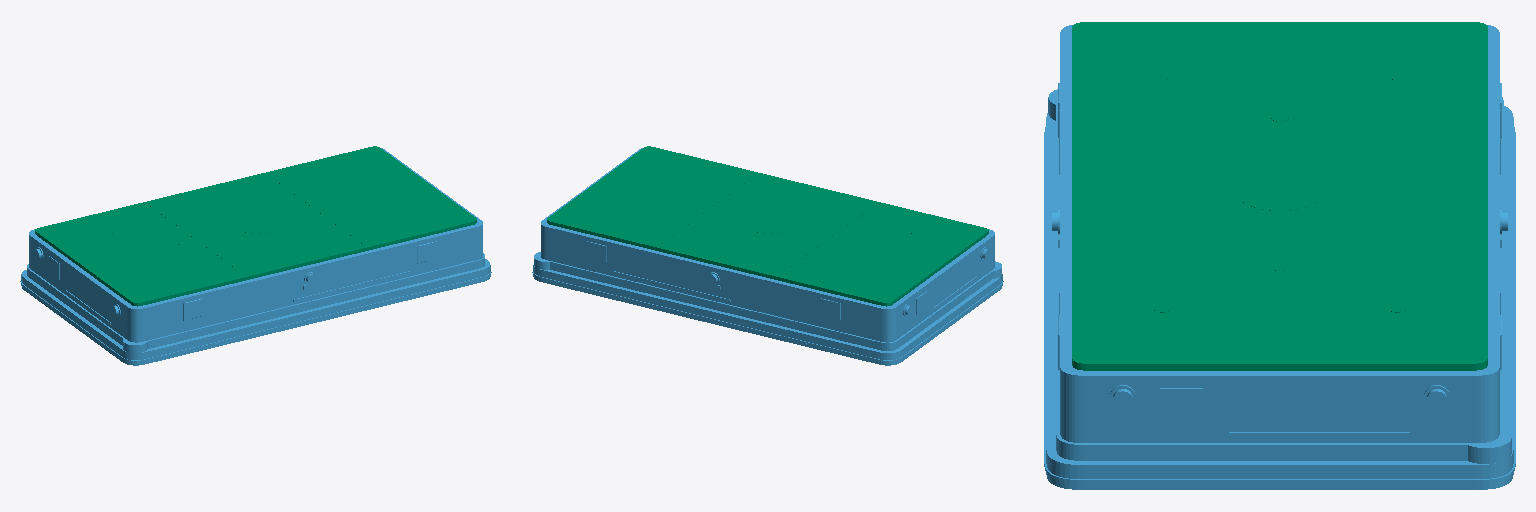
The robot description file, URDF, robot "kuka_kmp_3000p_reference":
<?xml version="1.0"?>
<robot name="kuka_kmp_3000p_reference">
<link name="base_footprint"></link>
<link name="base_link"><visual ><geometry ><mesh filename="../meshes/base_link.obj"/></geometry></visual><collision ><origin xyz="0 0 0.1965" rpy="0 0 0"/><geometry ><box size="2.2 1.2 0.303"/></geometry></collision></link>
<link name="lift_plate"><visual ><geometry ><mesh filename="../meshes/lift_plate.obj"/></geometry></visual><collision ><origin xyz="0 0 0.01" rpy="0 0 0"/><geometry ><box size="2.06 1.06 0.02"/></geometry></collision></link>
<link name="deck"></link>
<link name="drive_unit_front"><visual ><geometry ><mesh filename="../meshes/drive_unit_front.obj"/></geometry></visual></link>
<link name="drive_wheel_front"><visual ><geometry ><mesh filename="../meshes/drive_wheel_front.obj"/></geometry></visual></link>
<link name="drive_unit_rear"><visual ><geometry ><mesh filename="../meshes/drive_unit_rear.obj"/></geometry></visual></link>
<link name="drive_wheel_rear"><visual ><geometry ><mesh filename="../meshes/drive_wheel_rear.obj"/></geometry></visual></link>
<link name="castor_rr_fork"><visual ><geometry ><mesh filename="../meshes/castor_rr_fork.obj"/></geometry></visual></link>
<link name="castor_rr"><visual ><geometry ><mesh filename="../meshes/castor_rr.obj"/></geometry></visual></link>
<link name="castor_rl_fork"><visual ><geometry ><mesh filename="../meshes/castor_rl_fork.obj"/></geometry></visual></link>
<link name="castor_rl"><visual ><geometry ><mesh filename="../meshes/castor_rl.obj"/></geometry></visual></link>
<link name="castor_fr_fork"><visual ><geometry ><mesh filename="../meshes/castor_fr_fork.obj"/></geometry></visual></link>
<link name="castor_fr"><visual ><geometry ><mesh filename="../meshes/castor_fr.obj"/></geometry></visual></link>
<link name="castor_fl_fork"><visual ><geometry ><mesh filename="../meshes/castor_fl_fork.obj"/></geometry></visual></link>
<link name="castor_fl"><visual ><geometry ><mesh filename="../meshes/castor_fl.obj"/></geometry></visual></link>
<link name="scanner_front_frame"></link>
<link name="scanner_rear_frame"></link>
<joint name="base_joint" type="fixed"><parent link="base_footprint"/><child link="base_link"/><origin xyz="0 0 0" rpy="0 0 0"/></joint>
<joint name="lift" type="prismatic"><parent link="base_link"/><child link="lift_plate"/><origin xyz="0 0 0.35" rpy="0 0 0"/><axis xyz="0 0 1"/><limit lower="0" upper="0.1" velocity="0.03" effort="30000"/></joint>
<joint name="deck_joint" type="fixed"><parent link="lift_plate"/><child link="deck"/><origin xyz="0 0 0.02" rpy="0 0 0"/></joint>
<joint name="steer_front" type="continuous"><parent link="base_link"/><child link="drive_unit_front"/><origin xyz="0.7 0 0.1" rpy="0 0 0"/><axis xyz="0 0 1"/><limit effort="500" velocity="2"/></joint>
<joint name="drive_wheel_front" type="continuous"><parent link="drive_unit_front"/><child link="drive_wheel_front"/><origin xyz="0 0 0" rpy="0 0 0"/><axis xyz="0 1 0"/><limit effort="500" velocity="12"/></joint>
<joint name="steer_rear" type="continuous"><parent link="base_link"/><child link="drive_unit_rear"/><origin xyz="-0.7 0 0.1" rpy="0 0 0"/><axis xyz="0 0 1"/><limit effort="500" velocity="2"/></joint>
<joint name="drive_wheel_rear" type="continuous"><parent link="drive_unit_rear"/><child link="drive_wheel_rear"/><origin xyz="0 0 0" rpy="0 0 0"/><axis xyz="0 1 0"/><limit effort="500" velocity="12"/></joint>
<joint name="castor_rr_swivel" type="continuous"><parent link="base_link"/><child link="castor_rr_fork"/><origin xyz="-0.9 -0.42 0.0625" rpy="0 0 0"/><axis xyz="0 0 1"/><limit effort="50" velocity="6"/></joint>
<joint name="castor_rr" type="continuous"><parent link="castor_rr_fork"/><child link="castor_rr"/><origin xyz="0 0 0" rpy="0 0 0"/><axis xyz="0 1 0"/><limit effort="500" velocity="19.2"/></joint>
<joint name="castor_rl_swivel" type="continuous"><parent link="base_link"/><child link="castor_rl_fork"/><origin xyz="-0.9 0.42 0.0625" rpy="0 0 0"/><axis xyz="0 0 1"/><limit effort="50" velocity="6"/></joint>
<joint name="castor_rl" type="continuous"><parent link="castor_rl_fork"/><child link="castor_rl"/><origin xyz="0 0 0" rpy="0 0 0"/><axis xyz="0 1 0"/><limit effort="500" velocity="19.2"/></joint>
<joint name="castor_fr_swivel" type="continuous"><parent link="base_link"/><child link="castor_fr_fork"/><origin xyz="0.9 -0.42 0.0625" rpy="0 0 0"/><axis xyz="0 0 1"/><limit effort="50" velocity="6"/></joint>
<joint name="castor_fr" type="continuous"><parent link="castor_fr_fork"/><child link="castor_fr"/><origin xyz="0 0 0" rpy="0 0 0"/><axis xyz="0 1 0"/><limit effort="500" velocity="19.2"/></joint>
<joint name="castor_fl_swivel" type="continuous"><parent link="base_link"/><child link="castor_fl_fork"/><origin xyz="0.9 0.42 0.0625" rpy="0 0 0"/><axis xyz="0 0 1"/><limit effort="50" velocity="6"/></joint>
<joint name="castor_fl" type="continuous"><parent link="castor_fl_fork"/><child link="castor_fl"/><origin xyz="0 0 0" rpy="0 0 0"/><axis xyz="0 1 0"/><limit effort="500" velocity="19.2"/></joint>
<joint name="scanner_front_joint" type="fixed"><parent link="base_link"/><child link="scanner_front_frame"/><origin xyz="1.025 0.525 0.1375" rpy="0 0 0.785398163397"/></joint>
<joint name="scanner_rear_joint" type="fixed"><parent link="base_link"/><child link="scanner_rear_frame"/><origin xyz="-1.025 -0.525 0.1375" rpy="0 0 -2.35619449019"/></joint>
</robot>

--- What the picture shows (computed from the rendered views, not written in the file) ---
The picture shows the robot from 3 angles, left to right: view 1: azimuth 30°, elevation 25°; view 2: azimuth 150°, elevation 25°; view 3: azimuth 270°, elevation 25°; orthographic projection.
Model kuka_kmp_3000p_reference with 18 links and 17 joints (12 continuous, 1 prismatic, 4 fixed), rooted at base_footprint, posed all joints at 0.
Links seen in each view (by area): view 1: lift_plate, base_link; view 2: lift_plate, base_link; view 3: lift_plate, base_link.
Link boxes in pixels (<box>): lift_plate: <box>35,146,476,306</box>; base_link: <box>20,148,491,365</box>; lift_plate: <box>547,146,988,306</box>; base_link: <box>532,148,1003,365</box>; lift_plate: <box>1072,22,1487,370</box>; base_link: <box>1044,25,1515,489</box>.
Size in the robot's own frame: 2.2 by 1.2 by 0.37 metres.
Meshes: 14 distinct files referenced, 14 mesh visuals loaded (14 OBJ).
